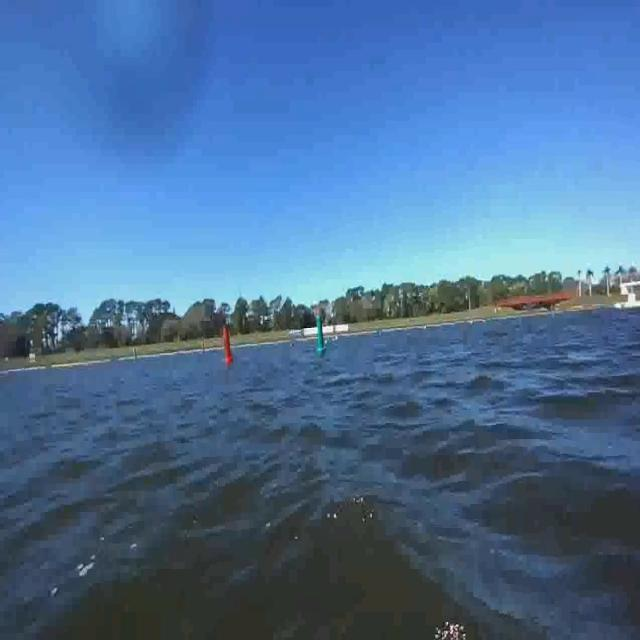green-column-buoy: (312, 312, 327, 358)
red-column-buoy: (218, 308, 238, 376)
